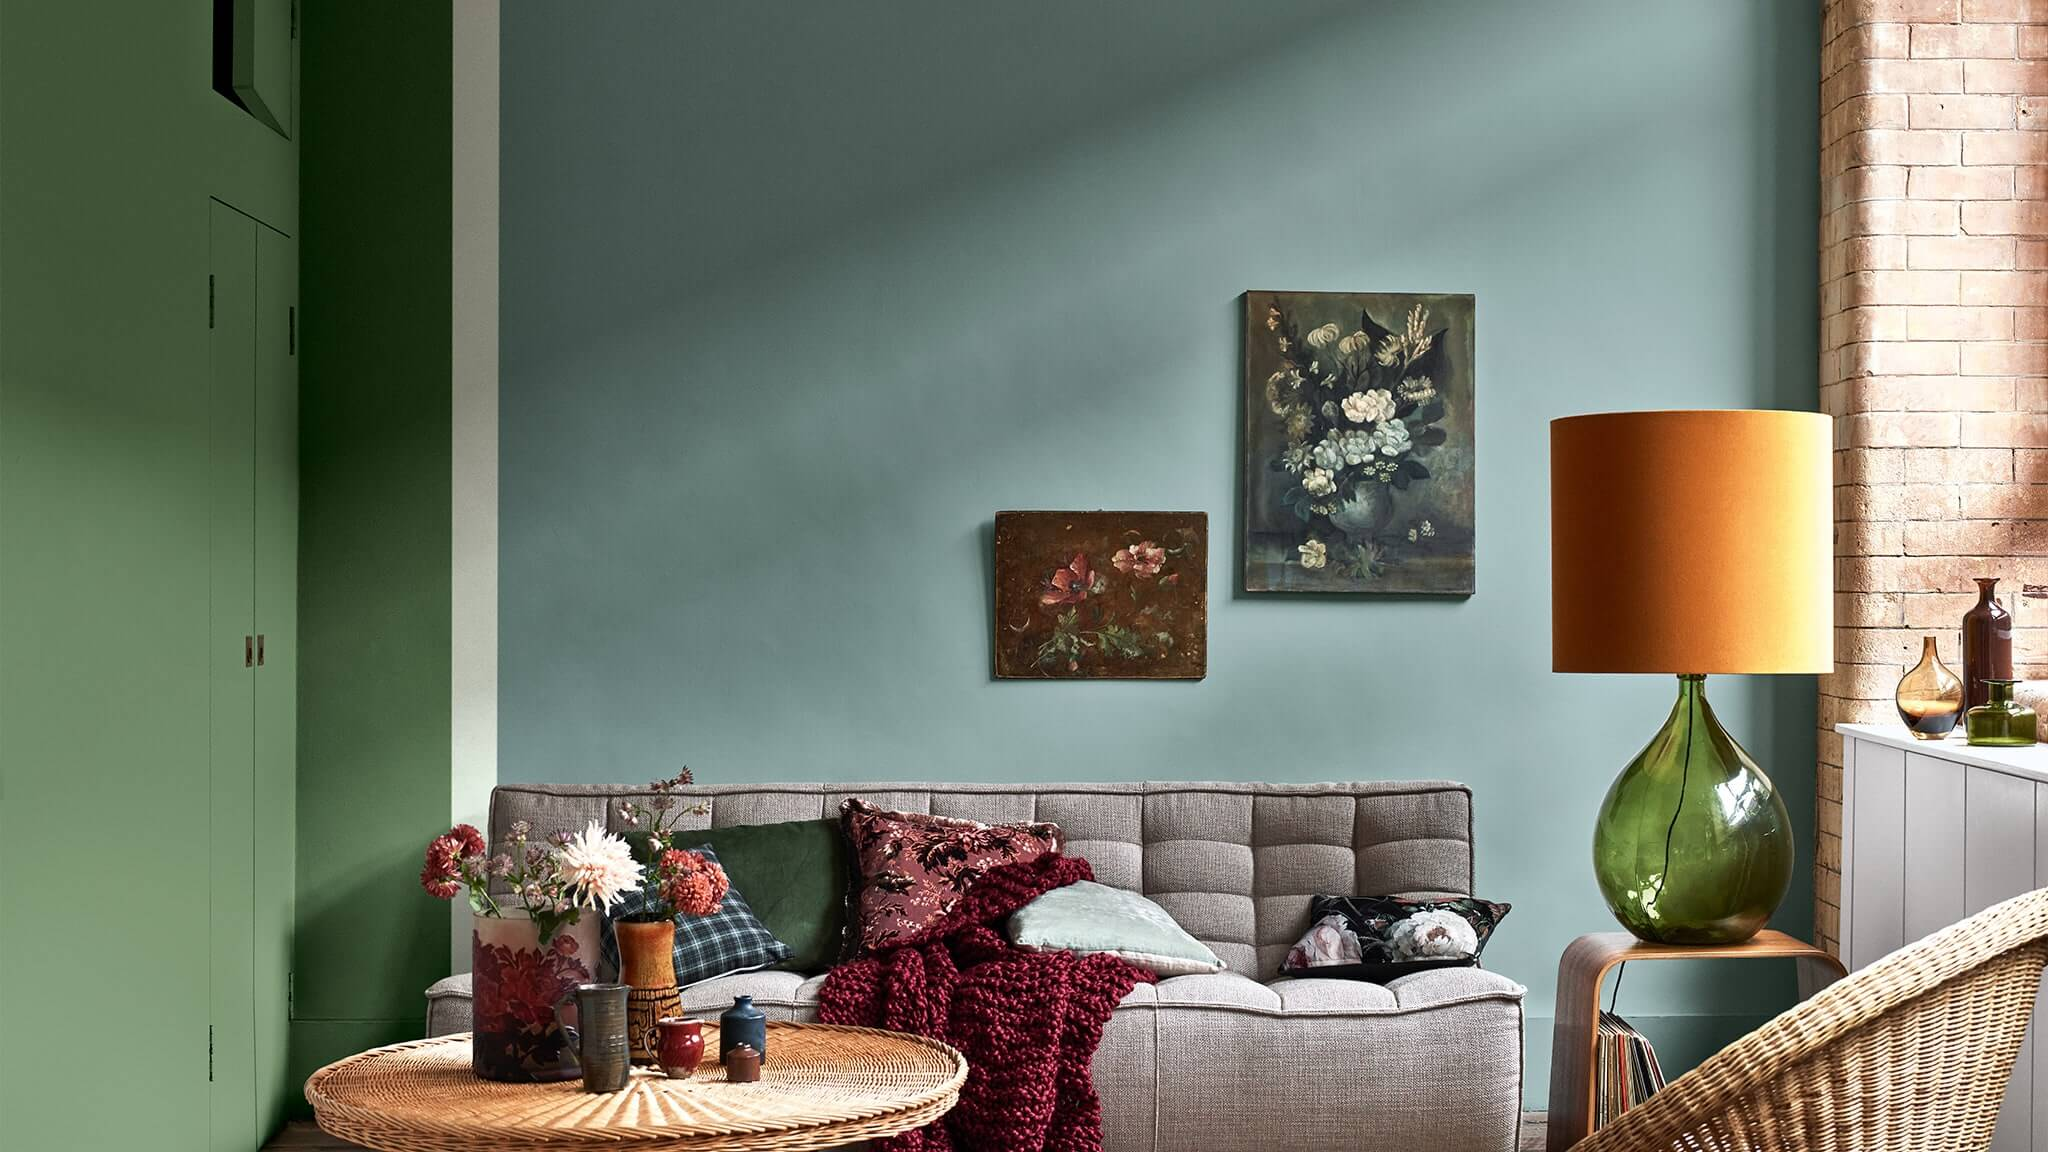bantal: (833, 793, 1039, 948), (1025, 881, 1215, 978), (1294, 888, 1485, 969)
buku: (1595, 999, 1668, 1103)
gelas: (574, 979, 639, 1094), (654, 1016, 708, 1089)
kursi: (1574, 873, 2048, 1146)
lampu: (1542, 404, 1837, 951)
lukisan: (1227, 286, 1487, 608), (982, 511, 1210, 698)
meja: (295, 1006, 971, 1152)
sova: (485, 772, 1526, 1142)
tanaman: (453, 820, 700, 1080)
